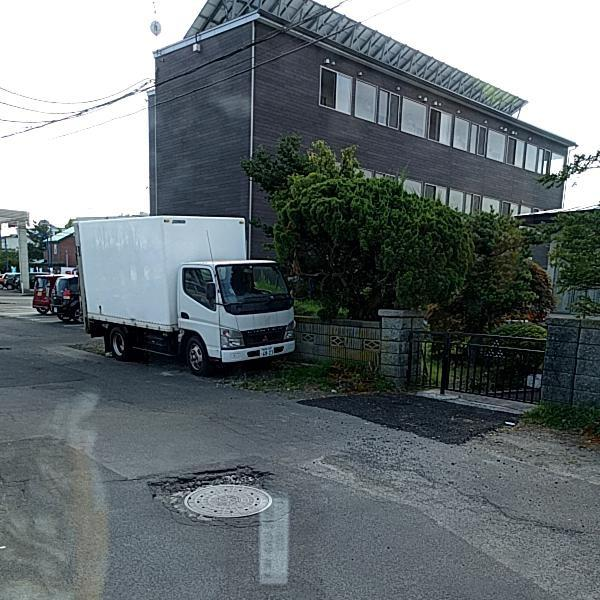pothole: (155, 466, 270, 520)
